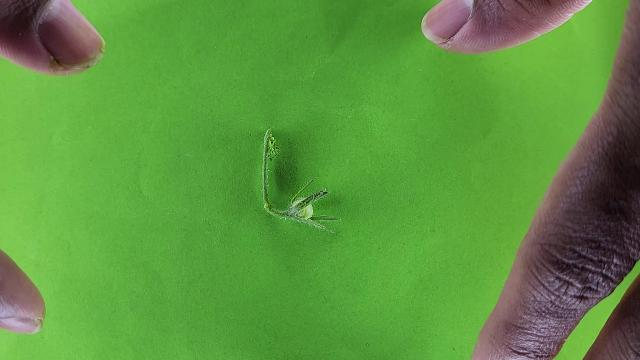Fruit Bud: (287, 178, 332, 220)
